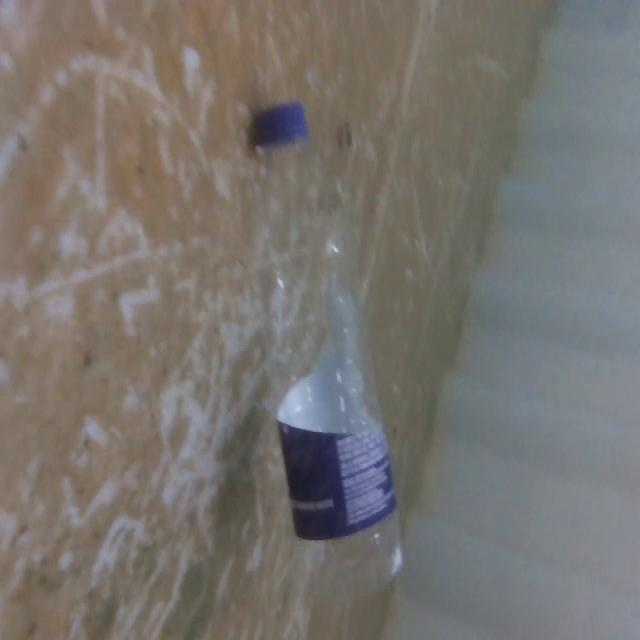plastic bottle: (236, 91, 419, 610)
